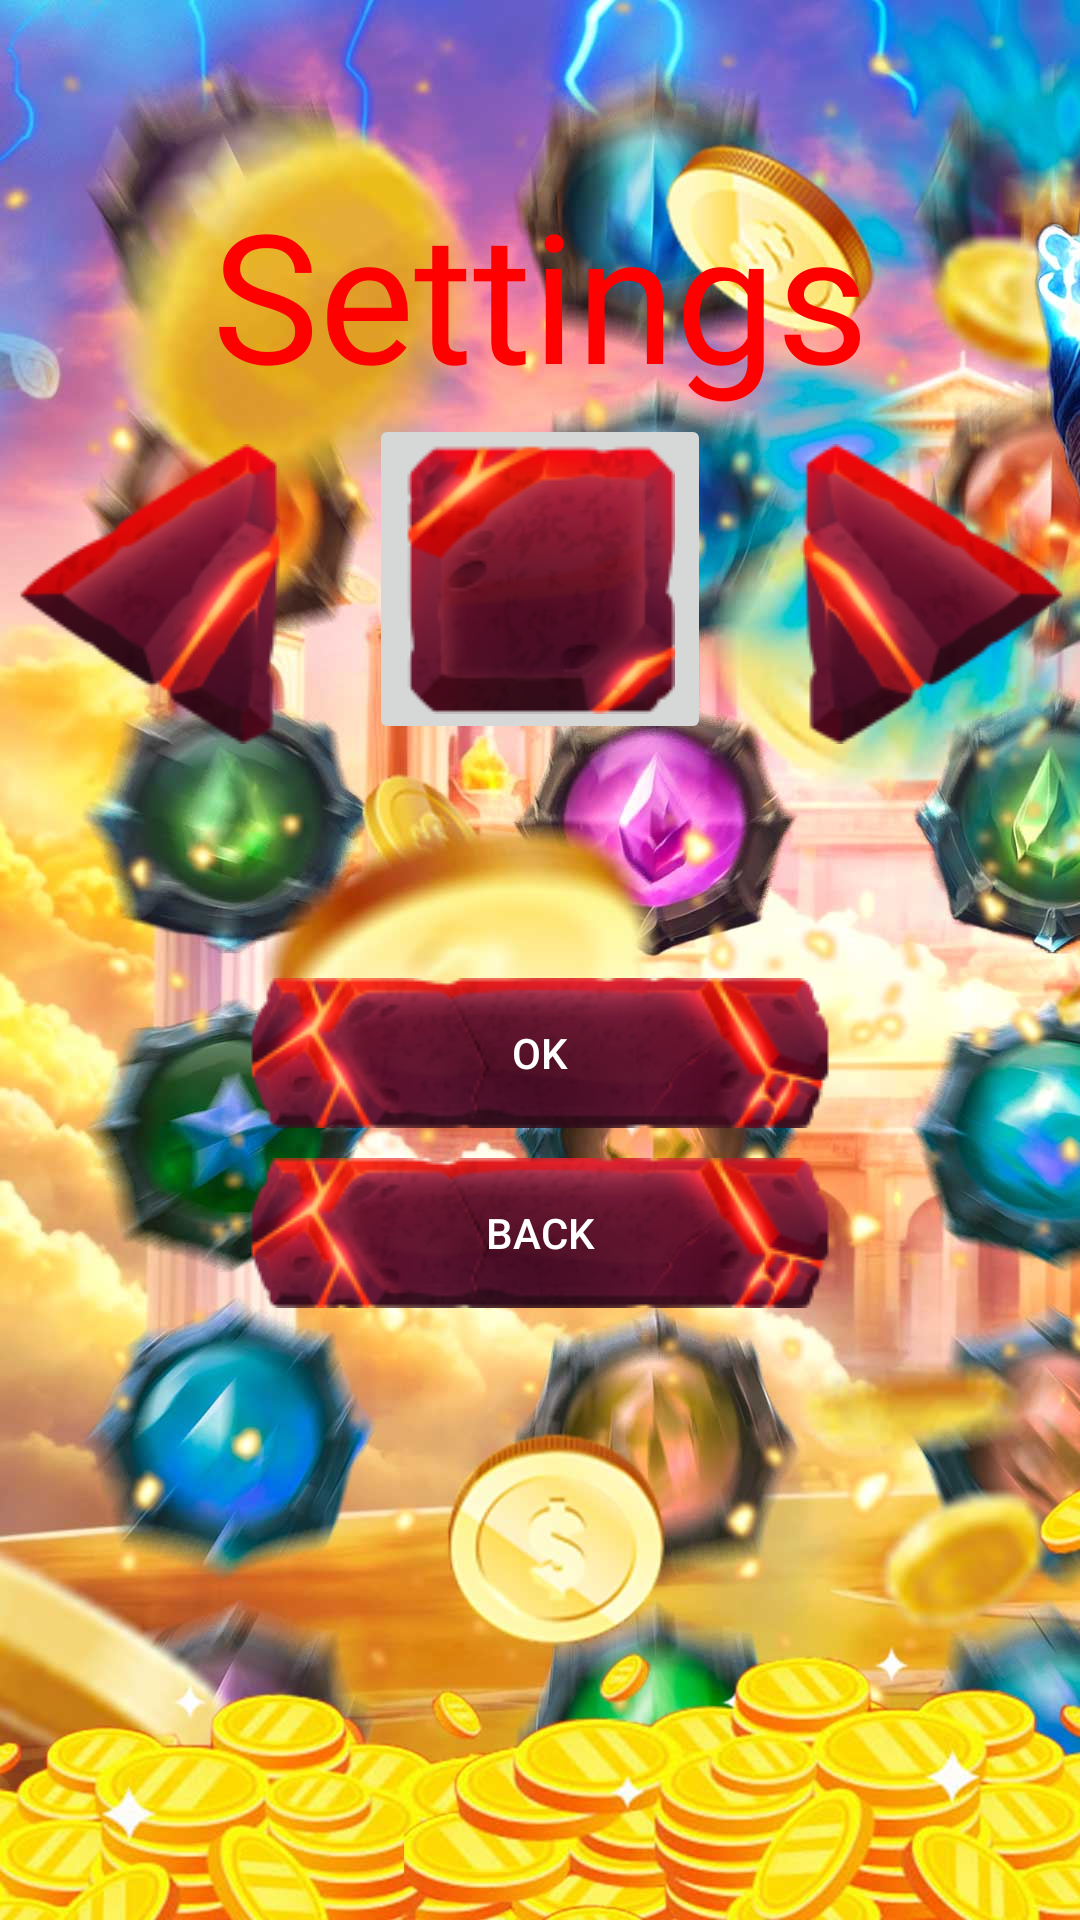

Where to tap for icons on this 1080px×1920px app screen, as [x,y]:
arrow left: [150,594]
arrow right: [930,594]
